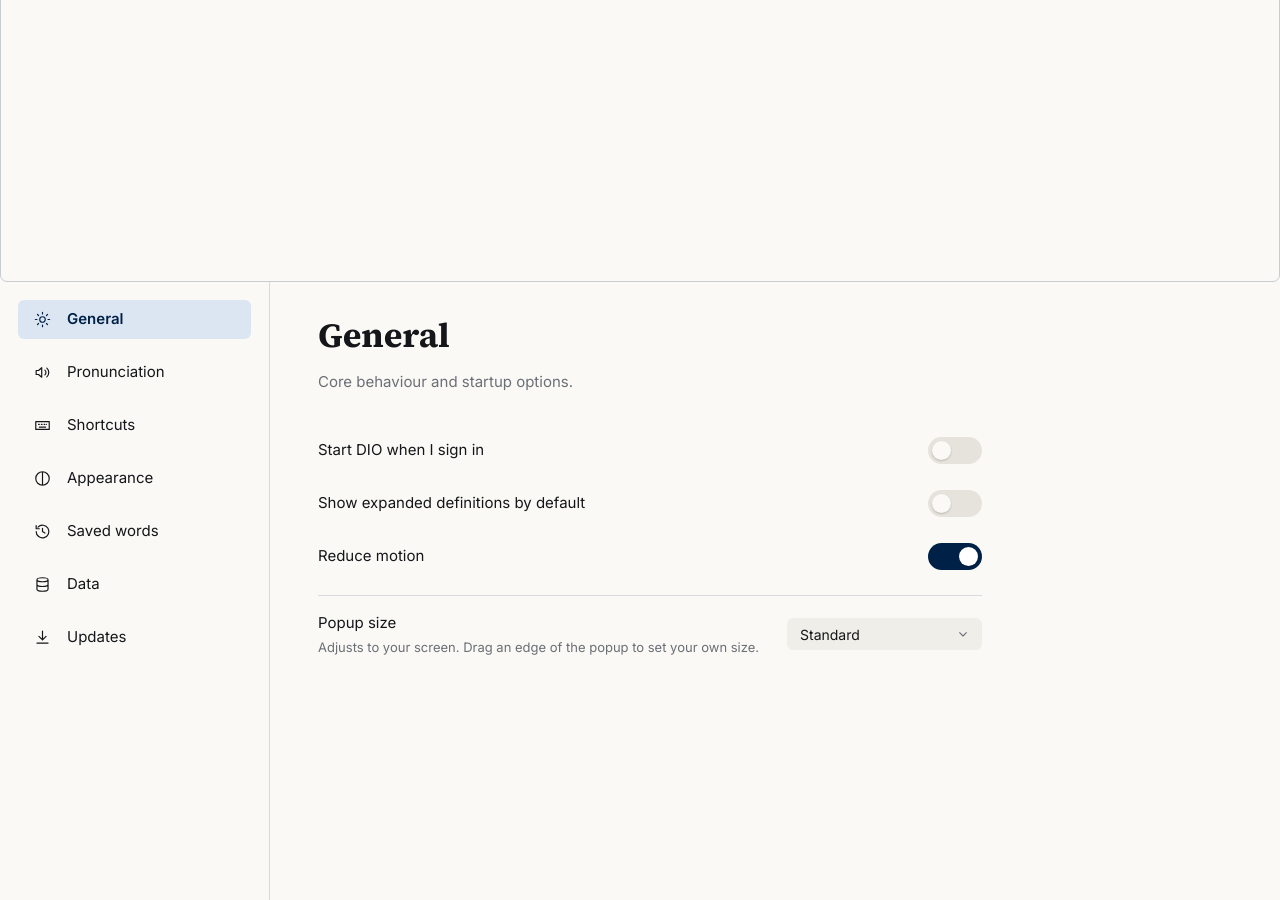
it: settings › reverts a change the backend rejects
The image size is (1280, 900).
(page scrolled)
Step 1. Click the switch labelled "Start DIO when I sign in" → (955,450), box [928,436,982,464]
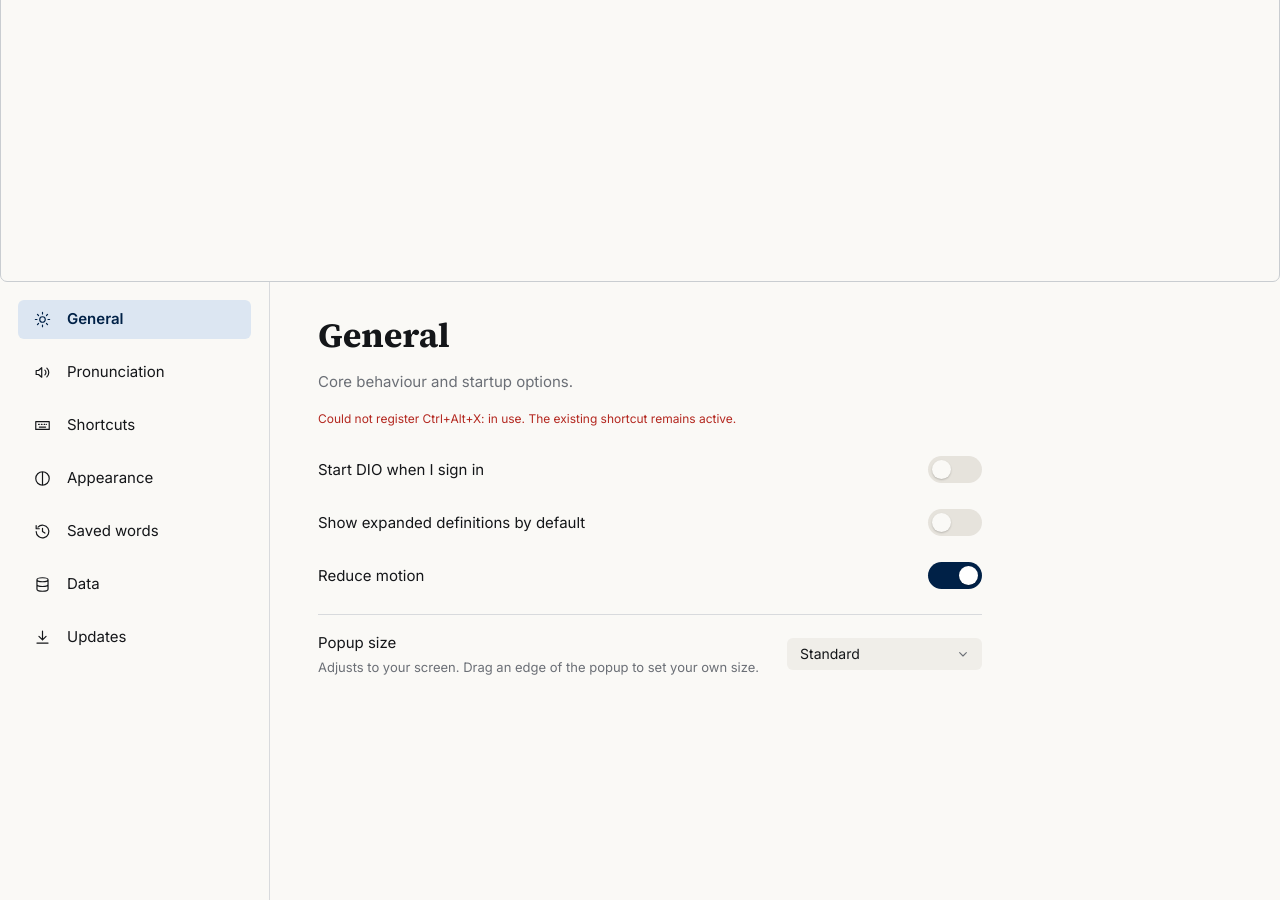
Expected: the switch labelled "Start DIO when I sign in" is not checked, [928,456,982,484]
Expected: the message shows "existing shortcut remains active", [318,410,736,426]
